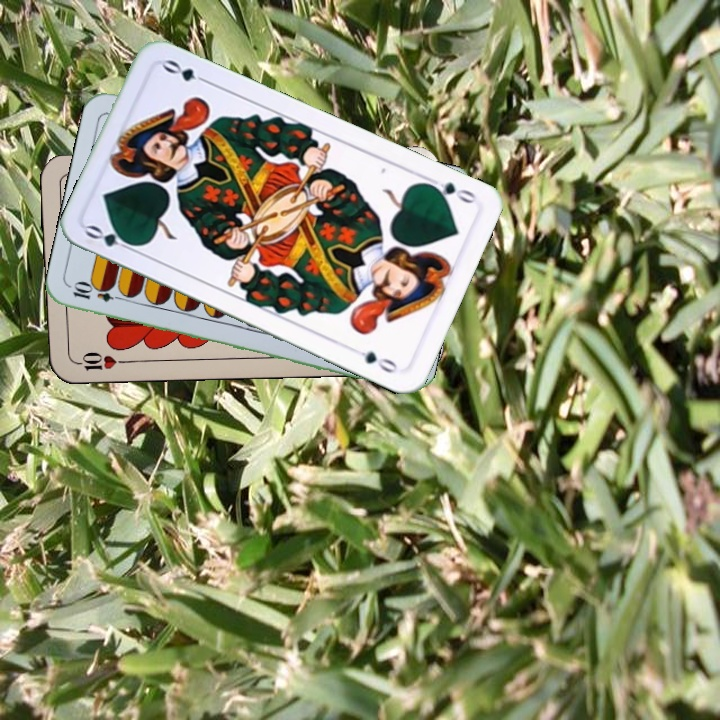E10: (69, 280, 128, 305)
GO: (81, 220, 141, 255), (421, 173, 479, 207)
H10: (70, 347, 129, 374)
